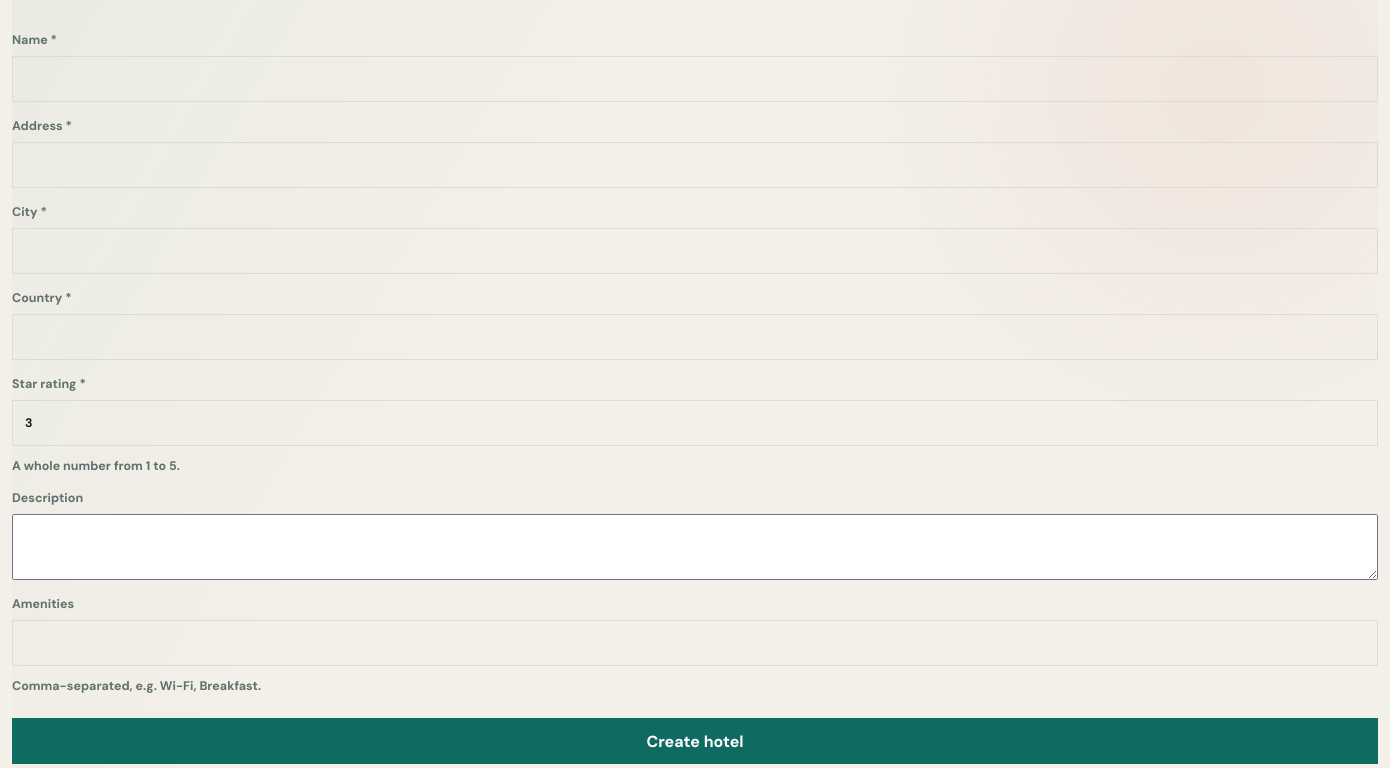
Test: AdminForm (hotel) › shows a forbidden message for 403
Step 1. Type "Inn" into the field labelled "Name *" → (695, 79), box [12,56,1378,102]
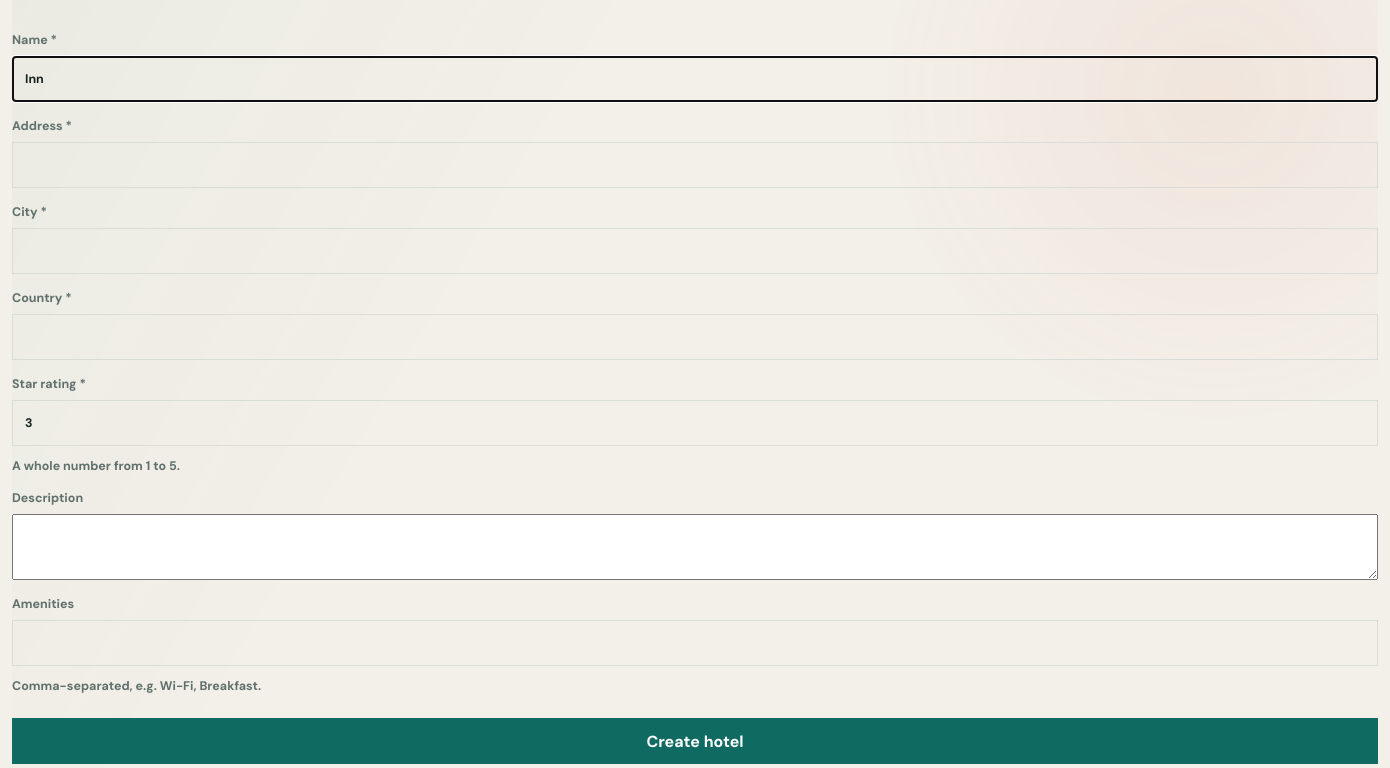
Step 2. Type "1 Main St" into the field labelled "Address *" → (695, 165), box [12,142,1378,188]
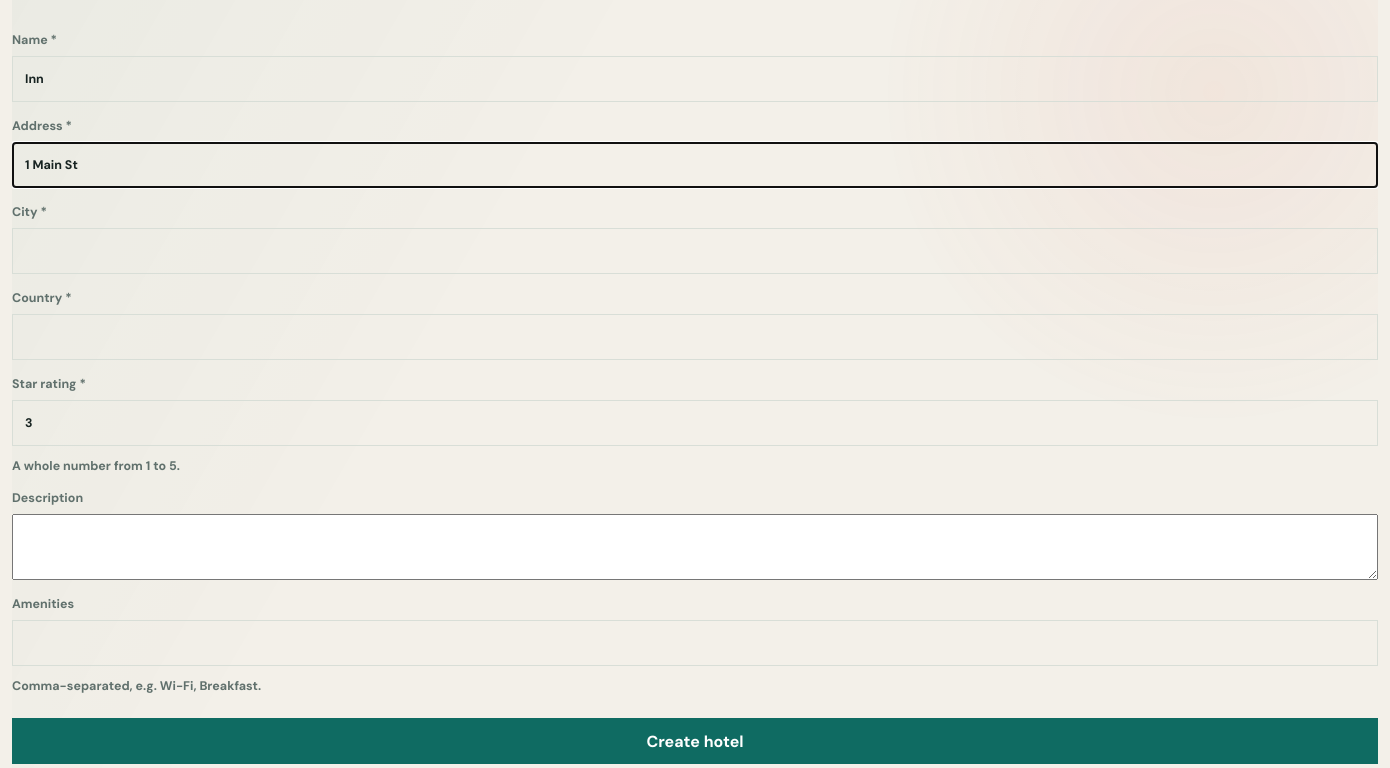
Step 3. Type "Oslo" into the field labelled "City *" → (695, 251), box [12,228,1378,274]
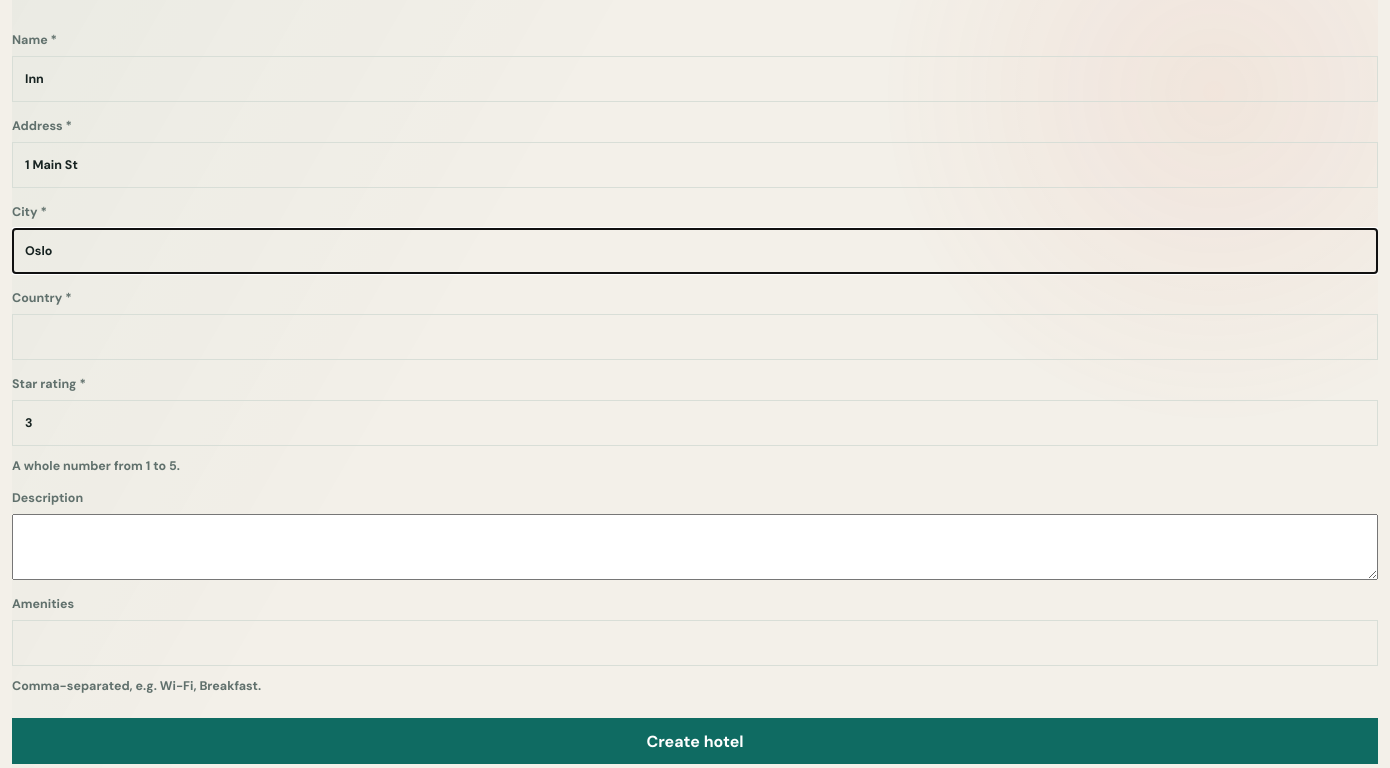
Step 4. Type "Norway" into the field labelled "Country *" → (695, 337), box [12,314,1378,360]
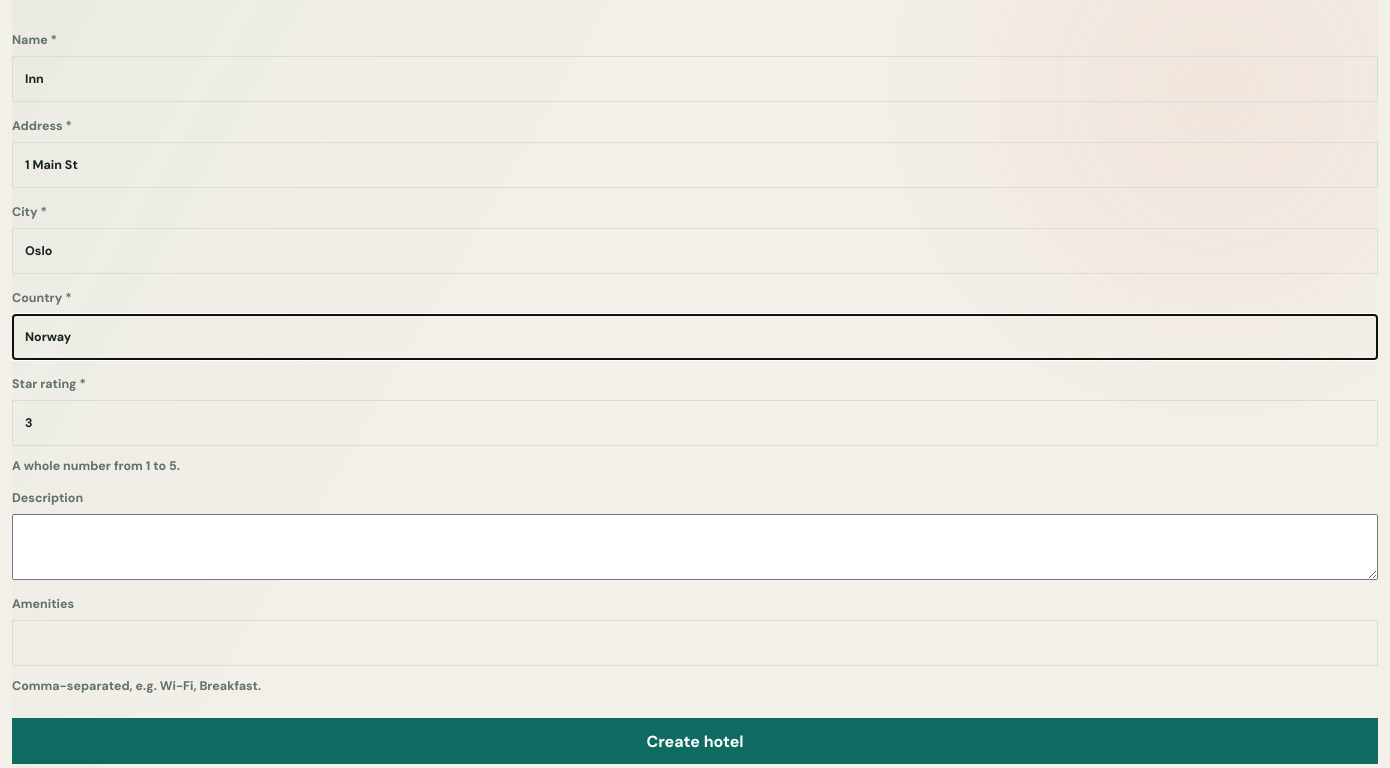
Step 5. Click the button "Create hotel" → (695, 741), box [12,718,1378,764]
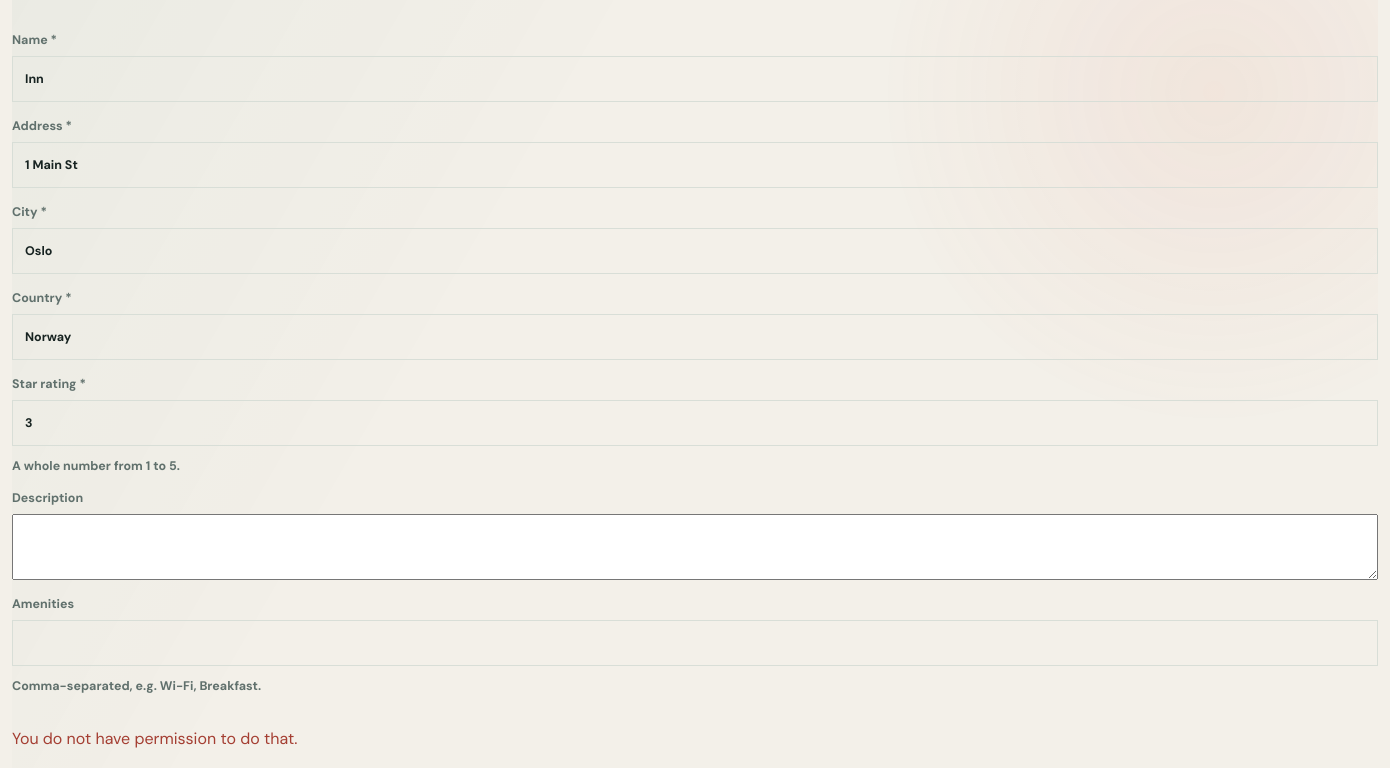
Check: the text "You do not have permission to do that." is shown, box [12,728,297,749]
